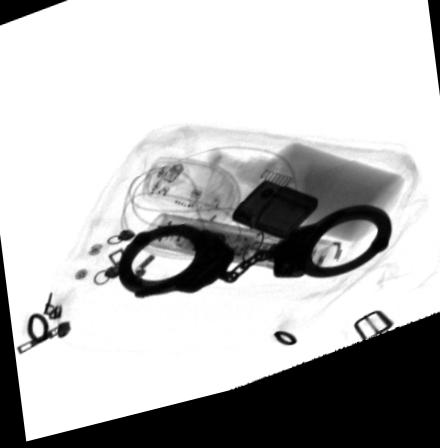Baton: (141, 221, 343, 296)
HandCuffs: (115, 223, 393, 304)
Lighter: (230, 192, 318, 254)
